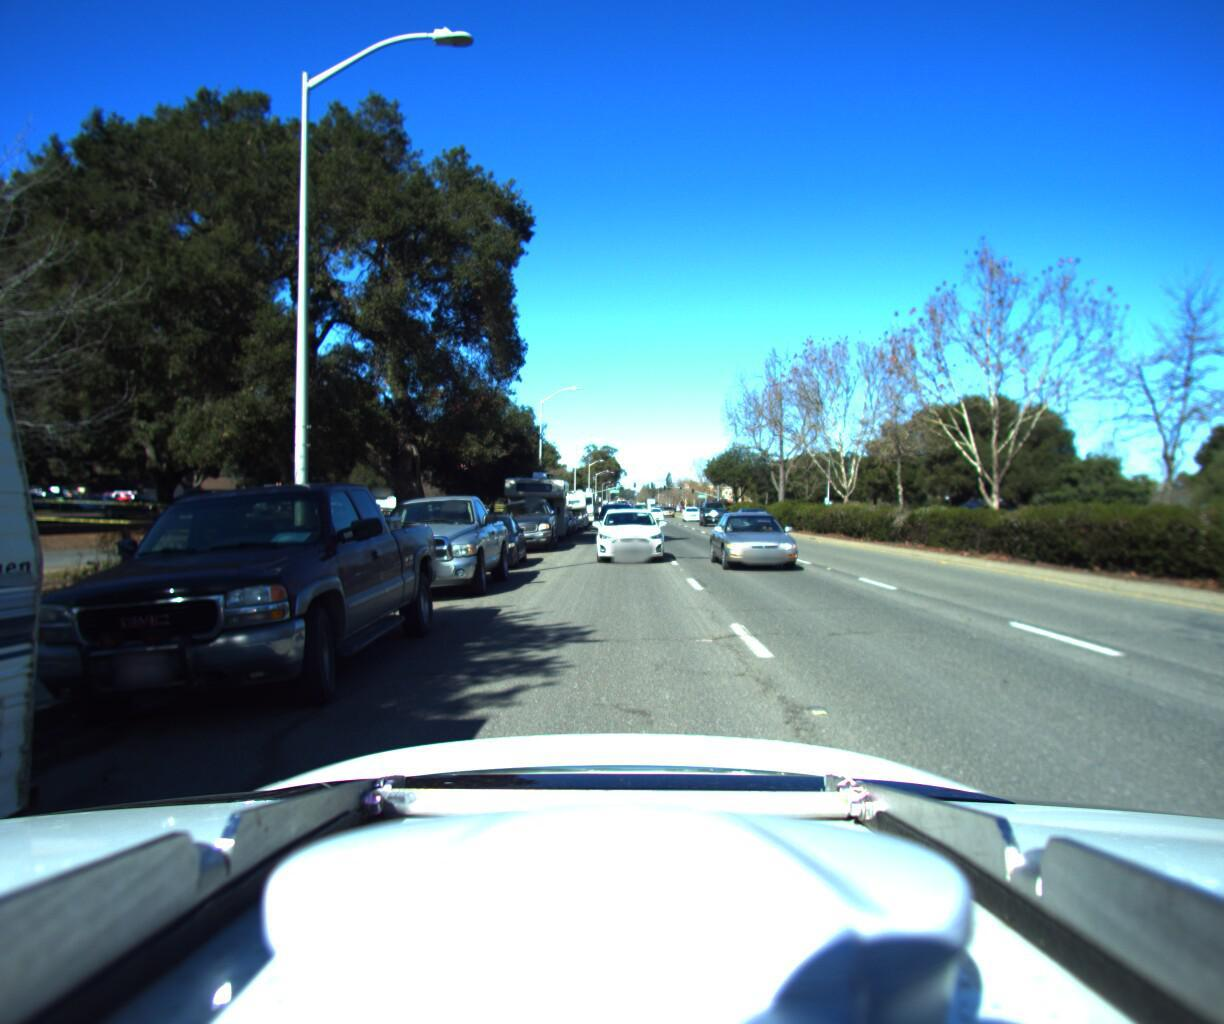car: (0, 470, 463, 770), (330, 488, 521, 609), (706, 502, 818, 576), (434, 505, 533, 573), (484, 487, 563, 552), (596, 502, 667, 562), (929, 489, 1009, 531), (536, 501, 574, 531), (541, 502, 580, 529), (702, 499, 735, 520), (683, 498, 705, 515), (642, 496, 662, 514)
other_vehicle: (497, 462, 570, 541), (546, 481, 589, 526), (560, 481, 597, 519)
